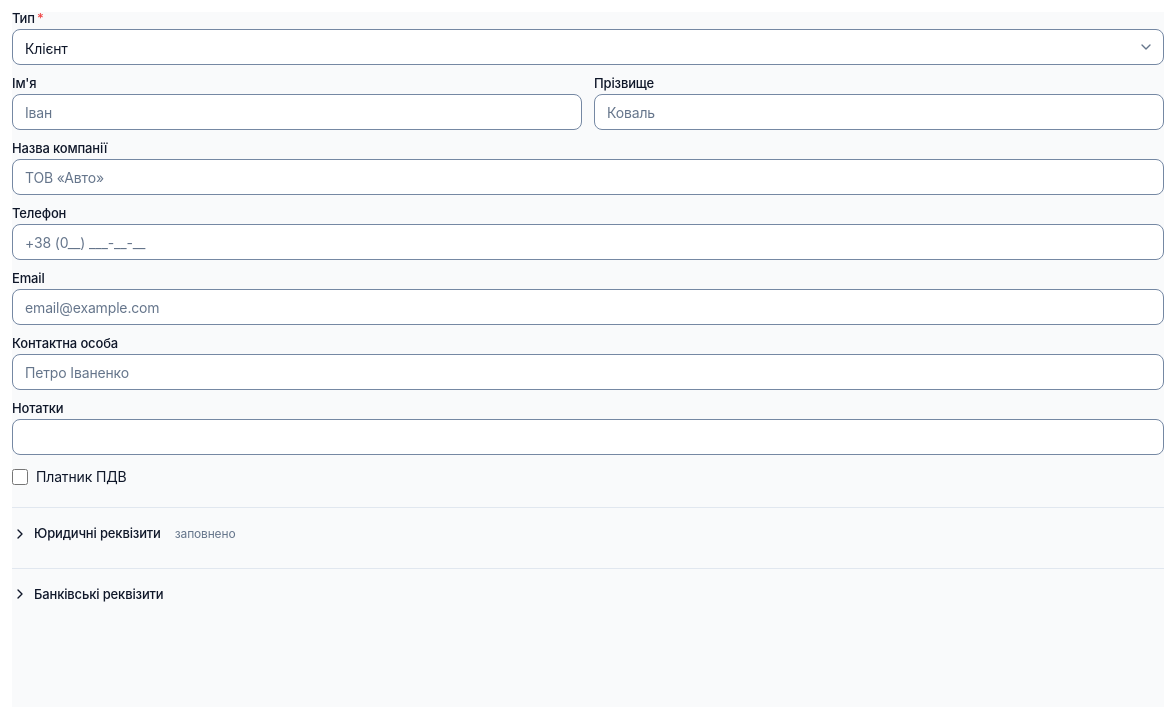
Test: CounterpartyForm — згортувані секції і рядок «Тип» › згорнута секція із заповненими полями позначена «заповнено», порожня — ні
Expected: the button "Банківські реквізити" does not show "заповнено", [12,580,1164,608]
Note: у розкритій секції позначка зайва — поля й так видно
Click the button "Юридичні реквізити заповнено" at coordinates (97, 533), box [12,520,1164,548]
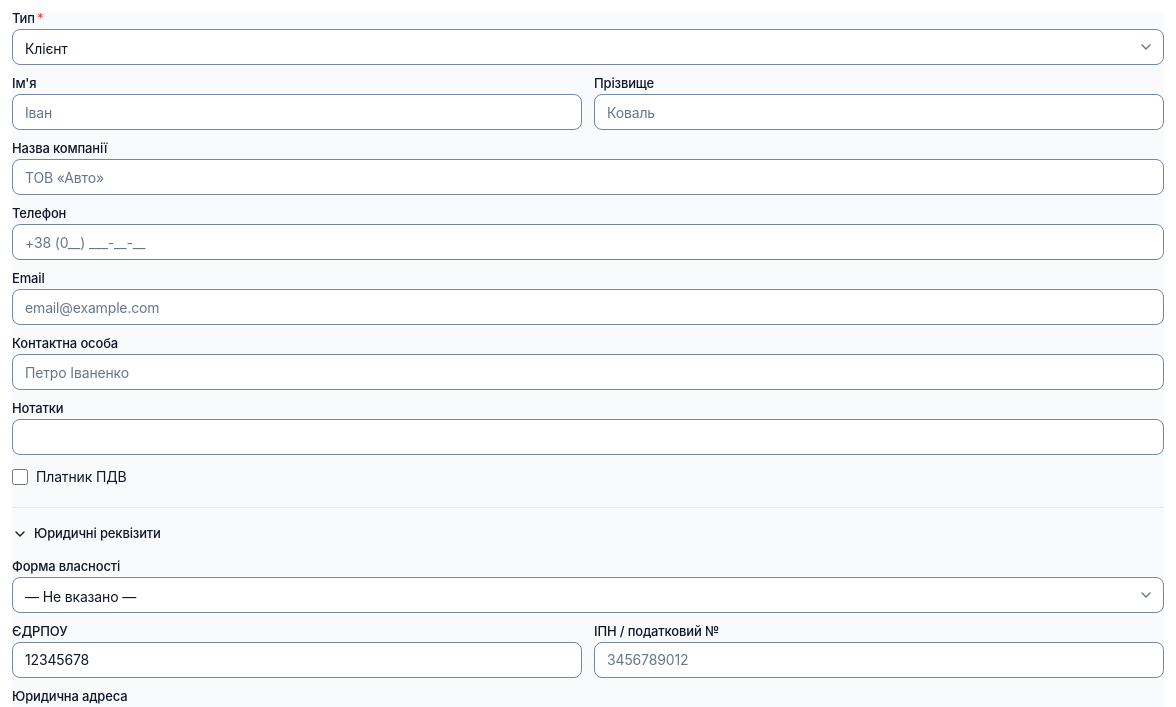
Now the button "Юридичні реквізити" no longer shows "заповнено", box [12,520,1164,548]
